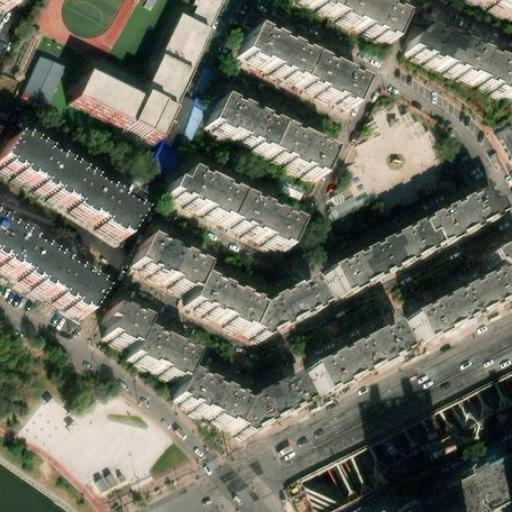building: (317, 185, 492, 294), (159, 170, 291, 248), (199, 100, 324, 180), (234, 25, 358, 104), (399, 29, 512, 110), (180, 272, 313, 334), (0, 233, 92, 317), (399, 270, 502, 341), (303, 322, 399, 390), (61, 74, 157, 138), (293, 0, 396, 44), (222, 367, 294, 425), (128, 231, 199, 285), (163, 365, 232, 419), (121, 324, 184, 374), (148, 15, 199, 72), (131, 58, 176, 108), (20, 59, 63, 108), (96, 303, 137, 343), (145, 137, 185, 178), (481, 239, 512, 281), (187, 0, 219, 32), (498, 128, 512, 160)
